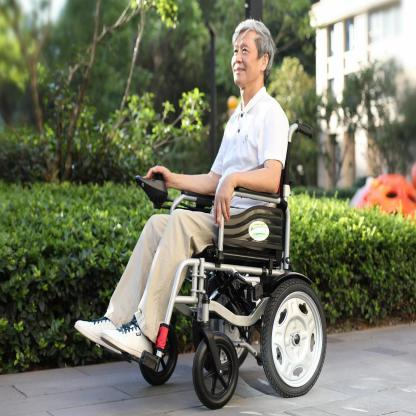wheelchair: (103, 18, 328, 412)
